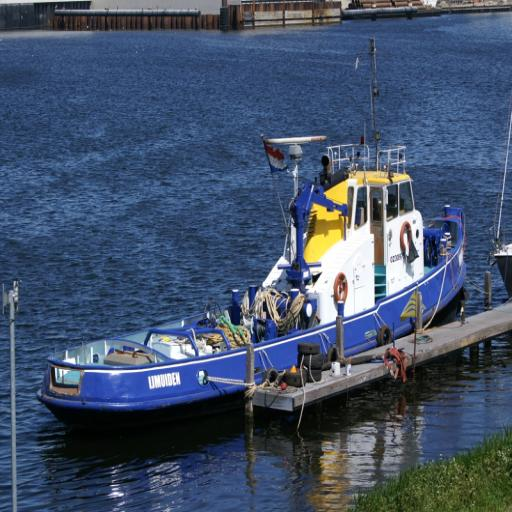tugboat: (34, 133, 472, 445)
